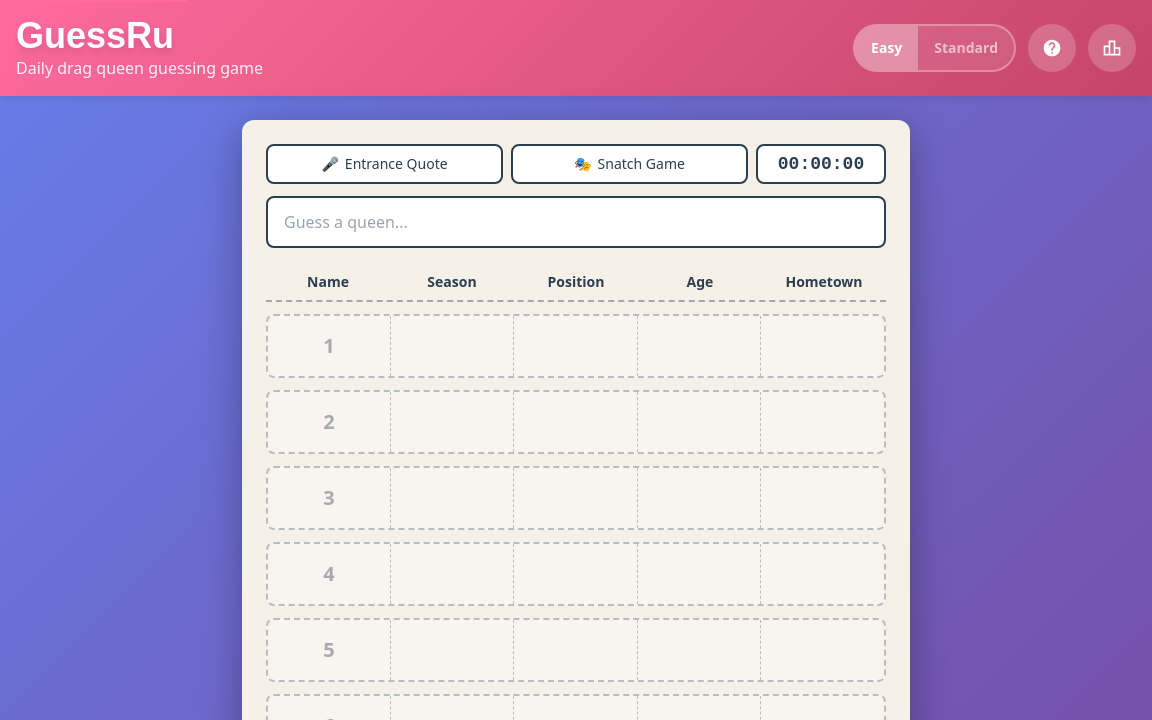
Test: Integration Tests: Complete Game Flows › Statistics Modal › should open statistics modal when stats button is clicked
This screenshot has width=1152, height=720.
Note: Find and click the stats button
Click the button named "Show game statistics": (1112, 48) [1088,24,1136,72]
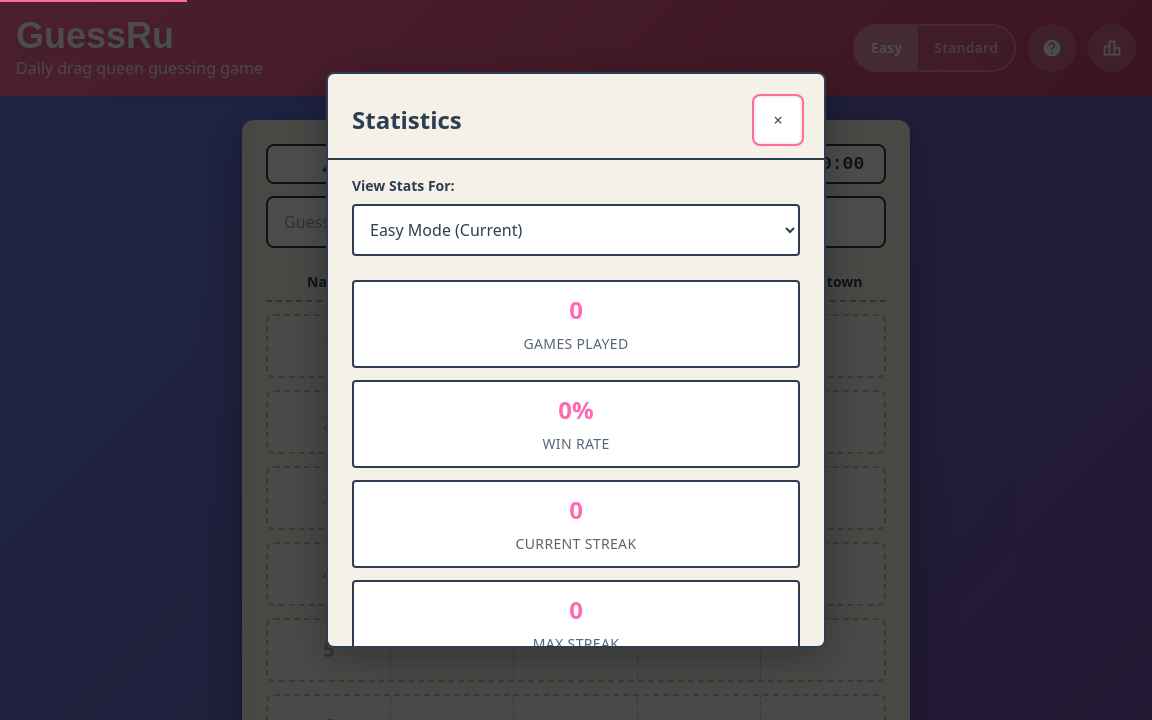
Check: the dialog is shown
Check: the heading "Statistics" is shown, box [352,104,462,136]
